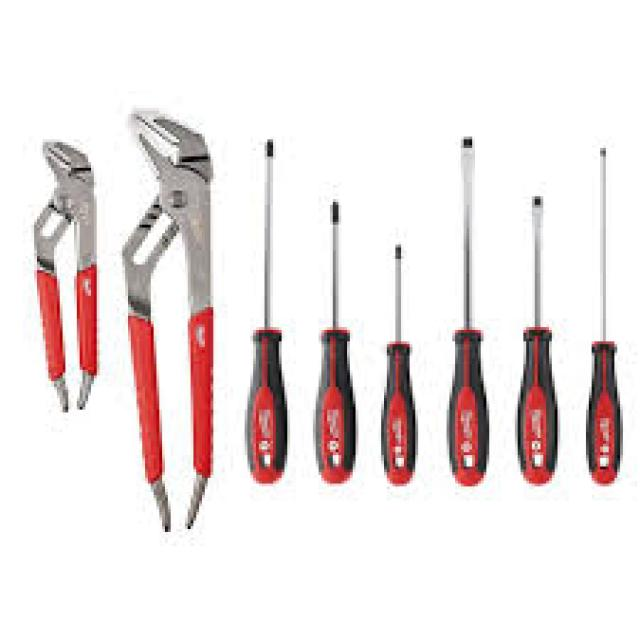Screwdriver: (446, 136, 490, 486), (246, 140, 286, 483), (516, 195, 559, 484), (586, 148, 621, 483), (315, 200, 356, 483), (381, 244, 418, 484)
